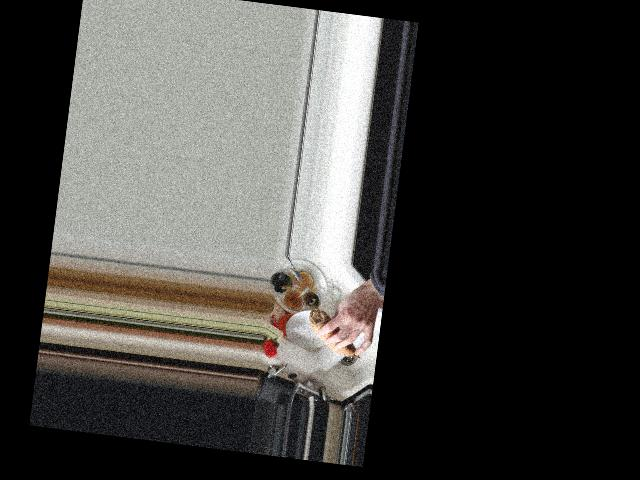sweet_potato: (306, 308, 366, 358)
